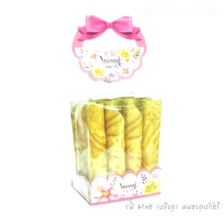snack: (61, 6, 174, 210)
